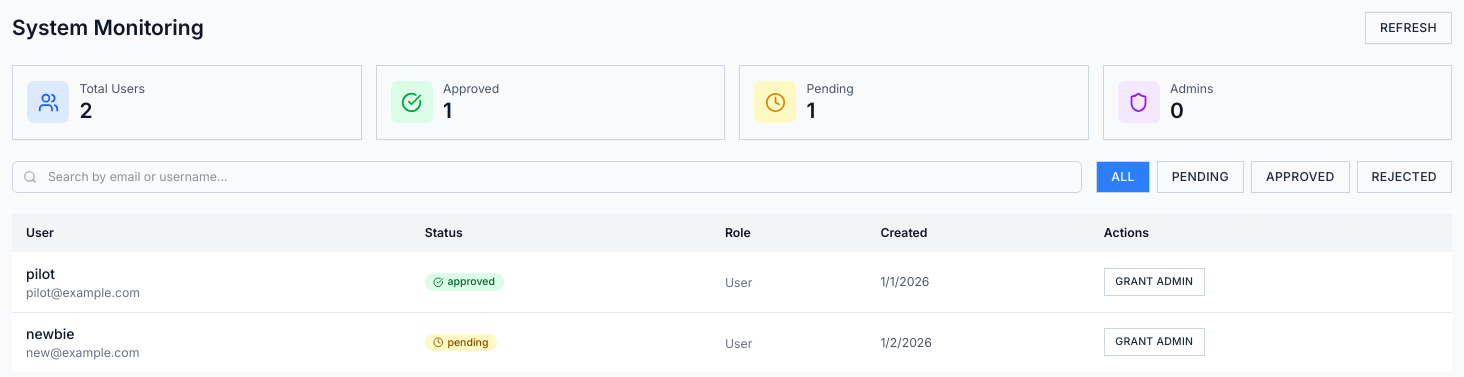
it: MonitoringPanel › filters user rows by search and status
Expected: the text "pilot@example.com" is shown, x1=26 y1=284 x2=140 y2=300
In the field with placeholder "Search by email or username...": (547, 177) x1=12 y1=161 x2=1082 y2=192, type "new@"
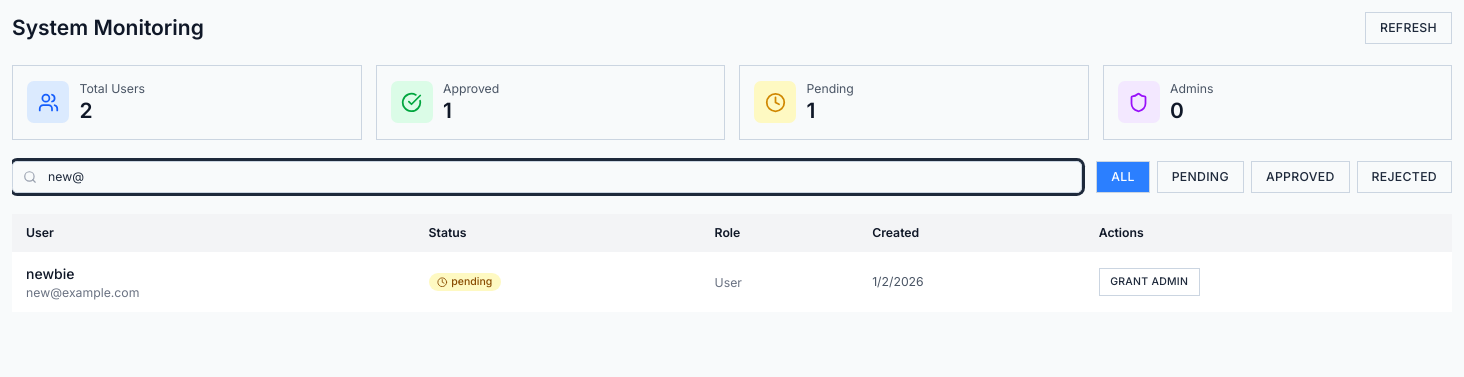
Expected: the text "new@example.com" is shown, x1=26 y1=284 x2=139 y2=300
Now the text "pilot@example.com" is gone
Clear the field with placeholder "Search by email or username...": (547, 177) x1=12 y1=161 x2=1082 y2=192
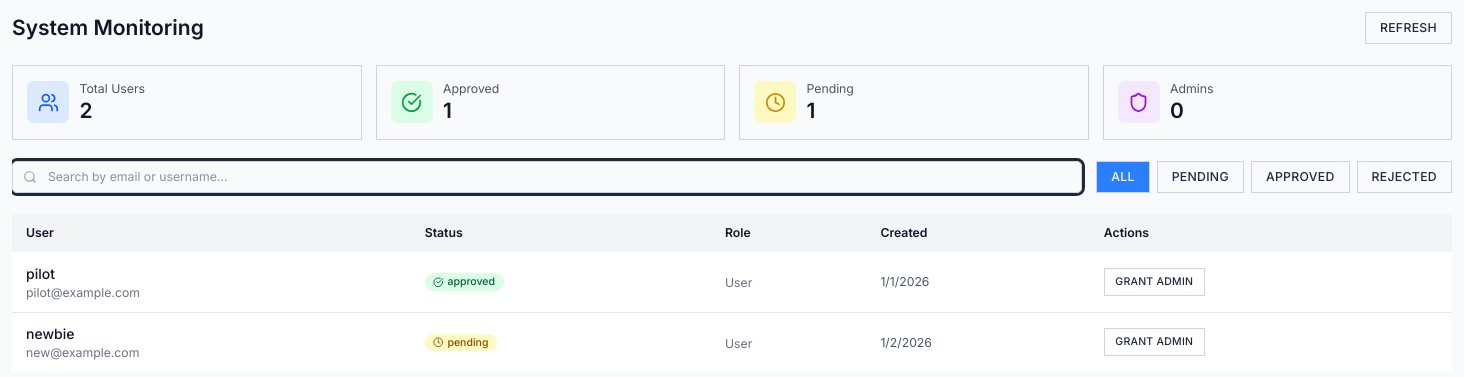
Click the button "Pending": (1200, 177) x1=1157 y1=161 x2=1244 y2=192
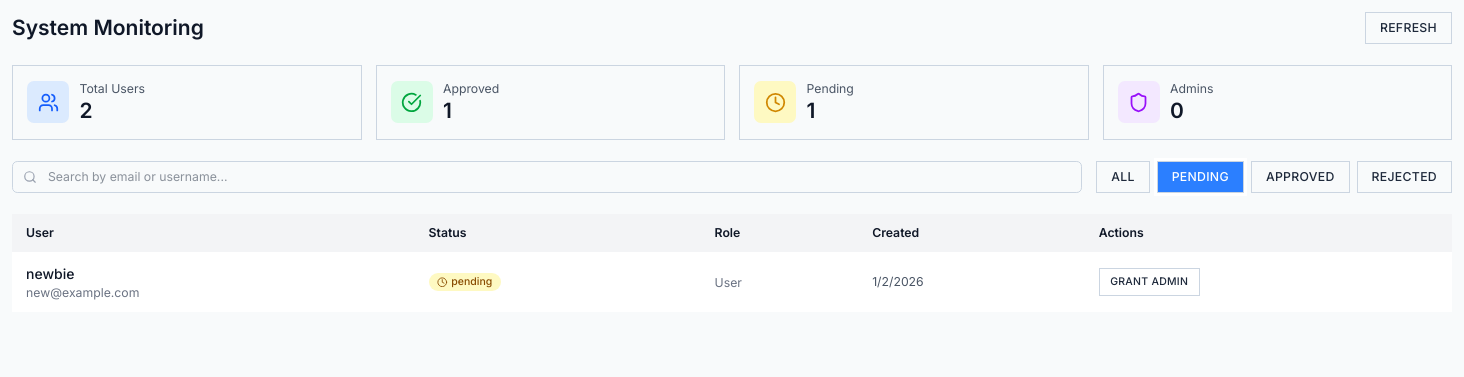
Expected: the text "new@example.com" is shown, x1=26 y1=284 x2=139 y2=300
Now the text "pilot@example.com" is gone
